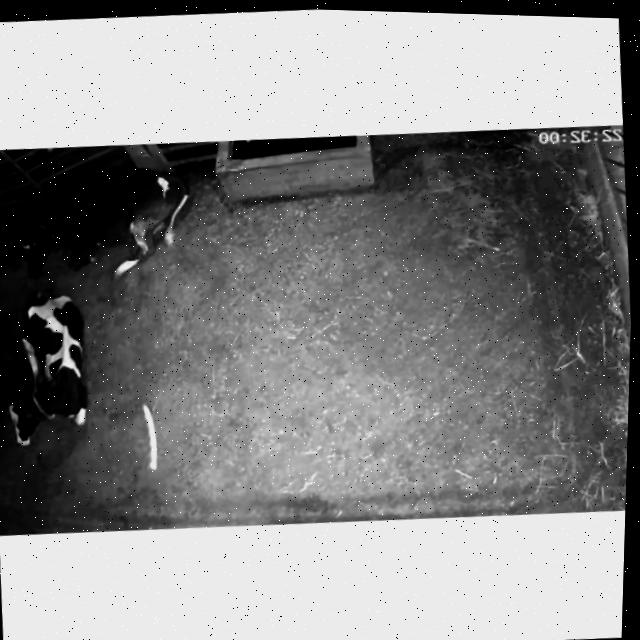lay: (0, 159, 200, 290), (0, 276, 106, 463)
